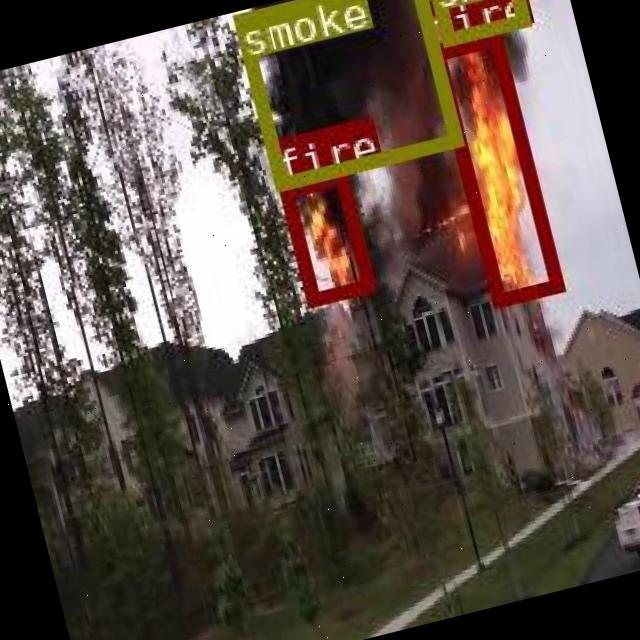fire: (426, 29, 561, 306), (276, 170, 372, 304)
smoke: (231, 0, 461, 189), (423, 0, 527, 42)
